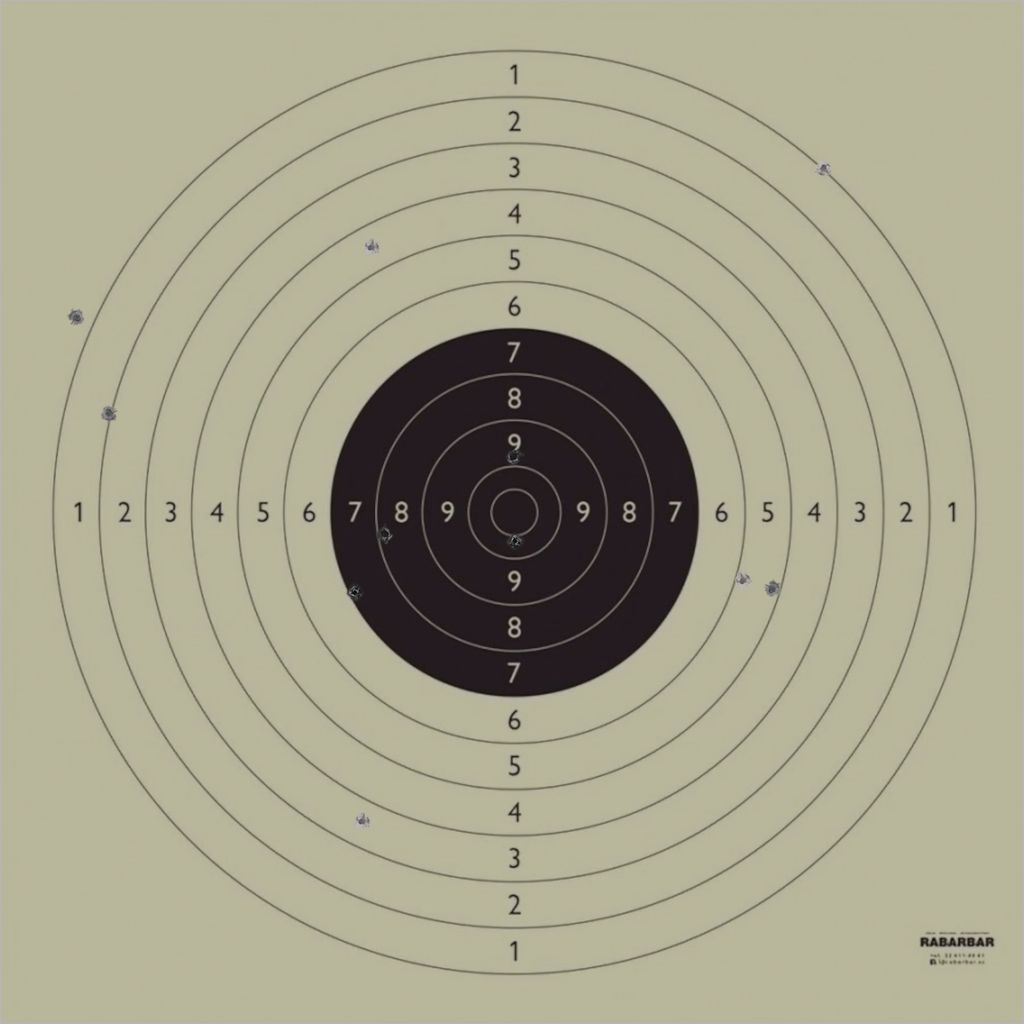0 punktow: (67, 309, 86, 327)
1 punkt: (814, 159, 833, 177)
10 punktow: (506, 531, 524, 550)
2 punkty: (100, 404, 118, 423)
3 punkty: (353, 812, 371, 831)
4 punkty: (362, 238, 380, 257)
5 punktow: (763, 580, 782, 598)
6 punktow: (734, 571, 752, 590)
7 punktow: (345, 583, 364, 602)
8 punktow: (376, 525, 394, 543)
9 punktow: (505, 448, 523, 466)
